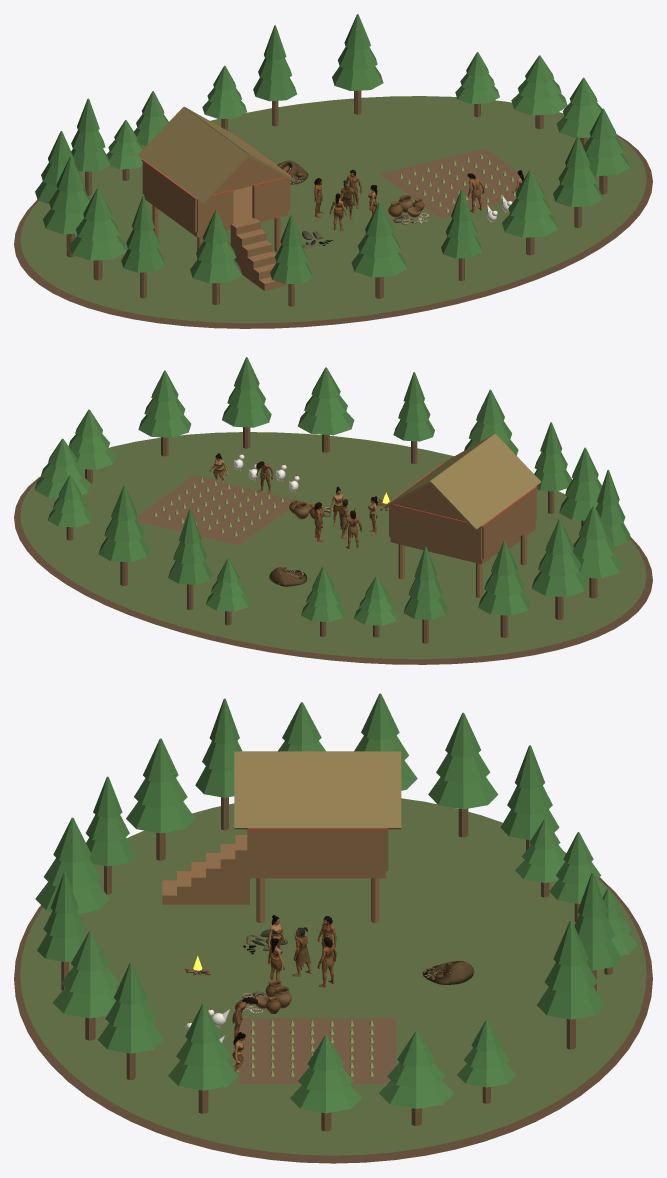
The model's file is neolitikum.glb.
3 views of the same model, one above another, from view 1: azimuth 30°, elevation 25°; view 2: azimuth 150°, elevation 25°; view 3: azimuth 270°, elevation 25° (orthographic). The views are drawn at different scales.
Parts seen in each view (by area): view 1: GEO-tanah_kampung, rumah_atap_kiri, GEO-tanah_kampung_Soil, ladang_neo_tanah, pohon_11, pohon_15, pohon_4, pohon_17, pohon_13, pohon_10, pohon_18, pohon_2 (+24 smaller); view 2: GEO-tanah_kampung, ladang_neo_tanah, rumah_atap_kiri, GEO-tanah_kampung_Soil, rumah_dinding_belakang, pohon_10, pohon_9, pohon_4, pohon_17, pohon_11, pohon_19, pohon_18 (+20 smaller); view 3: GEO-tanah_kampung, rumah_atap_kanan, ladang_neo_tanah, GEO-tanah_kampung_Soil, rumah_dinding_kanan, pohon_4, pohon_9, pohon_13, pohon_17, pohon_19, pohon_18, pohon_2 (+20 smaller).
Boxes of the visible parts, x1,y1,x2,y2 form: GEO-tanah_kampung: [20, 96, 646, 323]; rumah_atap_kiri: [138, 107, 248, 203]; GEO-tanah_kampung_Soil: [14, 134, 652, 328]; ladang_neo_tanah: [380, 148, 545, 218]; pohon_11: [69, 188, 126, 280]; pohon_15: [351, 202, 407, 298]; pohon_4: [332, 14, 383, 114]; pohon_17: [502, 170, 558, 255]; pohon_13: [190, 210, 242, 304]; pohon_10: [43, 156, 90, 257]; pohon_18: [553, 136, 602, 227]; pohon_2: [511, 55, 567, 129]; GEO-tanah_kampung: [20, 432, 646, 659]; ladang_neo_tanah: [136, 475, 298, 545]; rumah_atap_kiri: [430, 434, 541, 530]; GEO-tanah_kampung_Soil: [14, 476, 652, 664]; rumah_dinding_belakang: [389, 505, 481, 559]; pohon_10: [531, 519, 587, 619]; pohon_9: [478, 541, 530, 637]; pohon_4: [98, 485, 149, 585]; pohon_17: [297, 367, 354, 452]; pohon_11: [573, 505, 622, 598]; pohon_19: [138, 370, 191, 456]; pohon_18: [222, 357, 271, 448]; GEO-tanah_kampung: [20, 798, 646, 1155]; rumah_atap_kanan: [234, 752, 401, 829]; ladang_neo_tanah: [239, 1018, 395, 1083]; GEO-tanah_kampung_Soil: [14, 831, 652, 1163]; rumah_dinding_kanan: [250, 831, 385, 872]; pohon_4: [537, 920, 605, 1049]; pohon_9: [428, 712, 498, 837]; pohon_13: [126, 738, 195, 860]; pohon_17: [52, 930, 118, 1040]; pohon_19: [168, 1003, 238, 1113]; pohon_18: [97, 962, 163, 1079]; pohon_2: [379, 1031, 453, 1125].
Bounding box in the file's own units: 16.73 × 3.18 × 12.24.
Materials: 20 (6 with a texture image).
